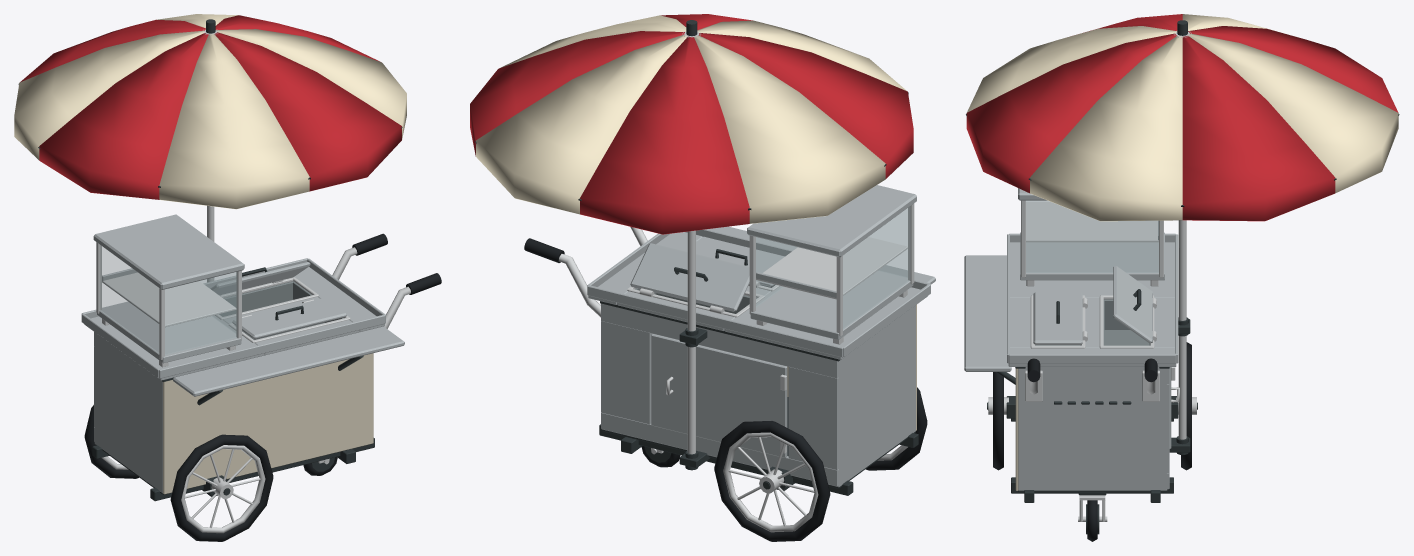
File: street_food_cart_LOD2.glb
3 renders of one model, left to right at view 1: azimuth 30°, elevation 25°; view 2: azimuth 150°, elevation 25°; view 3: azimuth 270°, elevation 25°, orthographic. The views are drawn at different scales.
Visible parts, largest first — view 1: cabinet_customer_wall, canopy_panel_5, canopy_panel_4, canopy_panel_6, canopy_panel_3, cabinet_far_end, display_roof, canopy_panel_7, customer_serving_shelf, display_customer_glass, display_tray, display_end_glass_-0.567 (+17 smaller); view 2: canopy_panel_2, canopy_panel_3, canopy_panel_1, fitted_service_door, canopy_panel_4, cabinet_far_end, canopy_panel_0, display_roof, display_tray, display_end_glass_-0.567, service_back_jamb_0.455, lid_back (+27 smaller); view 3: canopy_panel_0, canopy_panel_7, cabinet_push_end, canopy_panel_6, canopy_panel_1, display_end_glass_-0.141, display_tray, customer_serving_shelf, canopy_panel_2, canopy_panel_5, display_mid_shelf, counter_display_base (+13 smaller).
Boxes of the visible parts, x1,y1,x2,y2 form: cabinet_customer_wall: [163, 353, 373, 494]; canopy_panel_5: [159, 34, 309, 209]; canopy_panel_4: [39, 33, 208, 199]; canopy_panel_6: [214, 32, 401, 191]; canopy_panel_3: [14, 30, 204, 160]; cabinet_far_end: [94, 332, 162, 493]; display_roof: [93, 214, 244, 289]; canopy_panel_7: [216, 29, 406, 139]; customer_serving_shelf: [173, 326, 404, 396]; display_customer_glass: [165, 272, 237, 354]; display_tray: [97, 301, 241, 363]; display_end_glass_-0.567: [100, 245, 158, 352]; canopy_panel_2: [580, 36, 749, 234]; canopy_panel_3: [694, 35, 885, 223]; canopy_panel_1: [476, 34, 687, 214]; fitted_service_door: [651, 334, 787, 458]; canopy_panel_4: [699, 33, 913, 178]; cabinet_far_end: [837, 305, 915, 487]; canopy_panel_0: [470, 31, 684, 156]; display_roof: [747, 185, 916, 257]; display_tray: [750, 270, 913, 339]; display_end_glass_-0.567: [843, 206, 910, 328]; service_back_jamb_0.455: [601, 321, 651, 424]; lid_back: [630, 243, 749, 311]; canopy_panel_0: [1182, 36, 1335, 221]; canopy_panel_7: [1030, 35, 1182, 221]; cabinet_push_end: [1018, 367, 1167, 490]; canopy_panel_6: [966, 33, 1176, 193]; canopy_panel_1: [1188, 33, 1398, 193]; display_end_glass_-0.141: [1026, 201, 1158, 272]; display_tray: [1020, 232, 1164, 280]; customer_serving_shelf: [964, 255, 1011, 371]; canopy_panel_2: [1188, 26, 1398, 112]; canopy_panel_5: [967, 26, 1176, 112]; display_mid_shelf: [1026, 201, 1158, 242]; counter_display_base: [1010, 242, 1174, 299].
Size of the model in its own units: 1.89 by 2.31 by 1.89.
